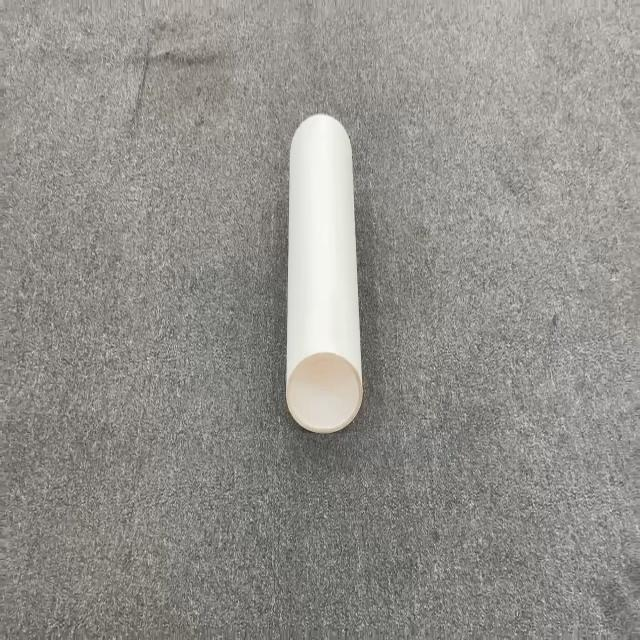coral: (284, 111, 364, 434)
